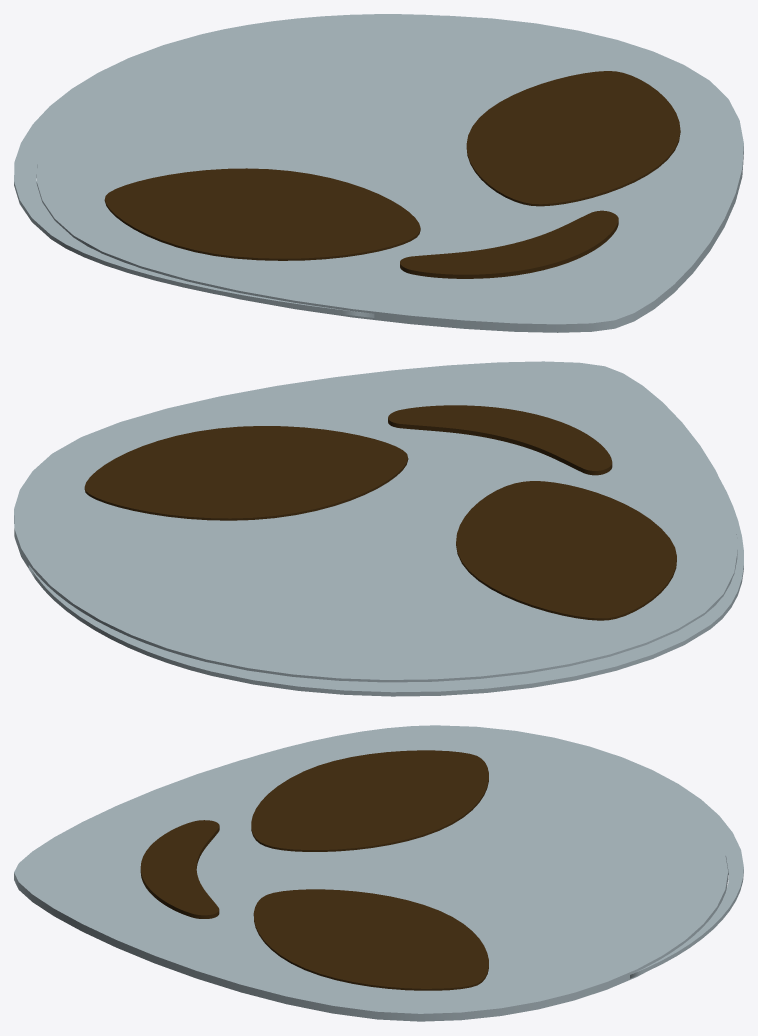
Rendered from emoji_u1f47d.glb.
3 renders of one model, top to bottom at view 1: azimuth 30°, elevation 25°; view 2: azimuth 150°, elevation 25°; view 3: azimuth 270°, elevation 25°, orthographic. The views are drawn at different scales.
Parts seen in each view (by area): view 1: emoji_u1f47d; view 2: emoji_u1f47d; view 3: emoji_u1f47d.
Boxes of the visible parts, box(x1,y1,x2,y2) form: emoji_u1f47d: box(14, 14, 743, 332); emoji_u1f47d: box(14, 361, 743, 696); emoji_u1f47d: box(14, 725, 743, 1021).
Bounding box in the file's own units: 0.0323 × 0.0008 × 0.0343.
